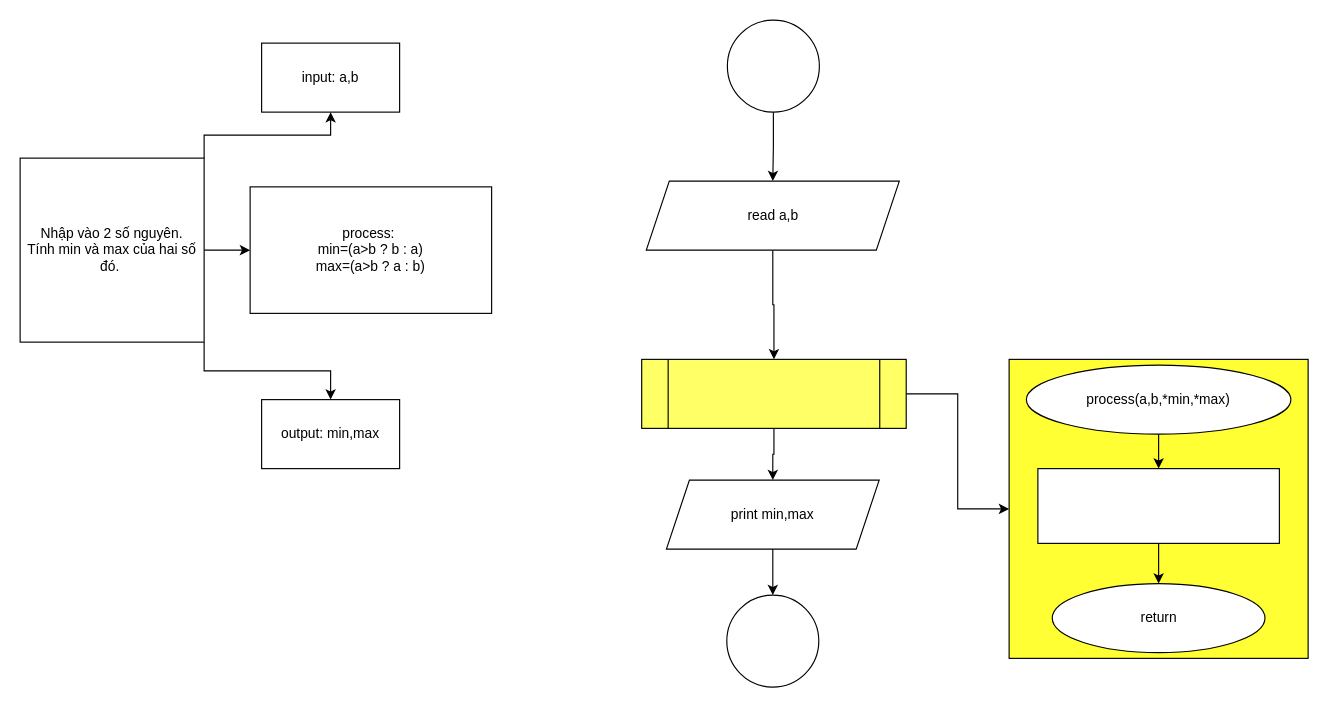
The diagram is 1328 pixels wide and 707 high, and some of its shapes have lost their labels. The shapes that lost their labels are listed below. From the top down, each one's centre as x and y in pixels, then its label:
At point (772, 65): "begin".
At point (773, 393): "process(a,b,&min,&max)".
At point (1158, 505): "*min=(a>b ? b : a) *max=(a>b ? a : b)".
At point (772, 640): "end".
